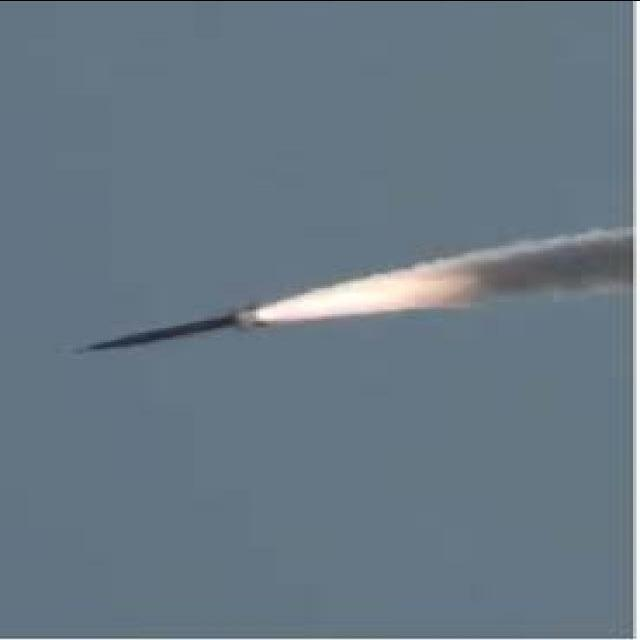missile: (77, 304, 270, 363)
